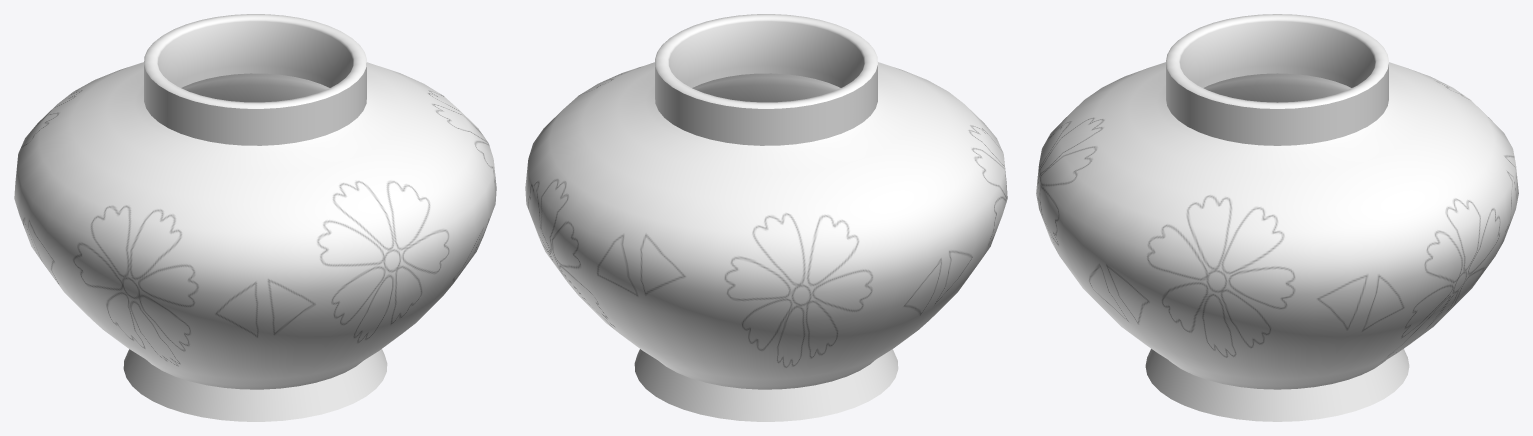
The picture shows the model from 3 angles, left to right: view 1: azimuth 30°, elevation 25°; view 2: azimuth 150°, elevation 25°; view 3: azimuth 270°, elevation 25°; orthographic projection.
Visible parts, largest first — view 1: KV-1; view 2: KV-1; view 3: KV-1.
Boxes of the visible parts, left/top/right/bottom form: KV-1: left=14, top=14, right=496, bottom=421; KV-1: left=525, top=14, right=1007, bottom=421; KV-1: left=1036, top=14, right=1518, bottom=421.
Bounding box in the file's own units: 63.36 × 44.55 × 63.36.
1 material, 1 textured.
